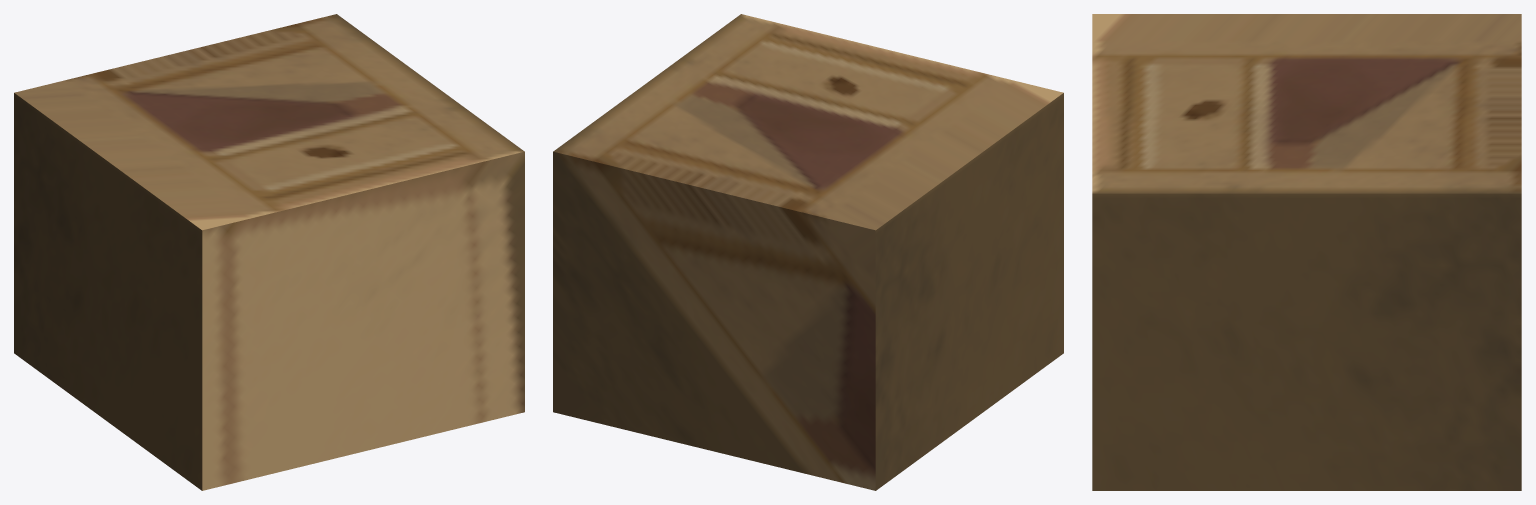
Rendered from pz_house_drawers_bedroom.obj.
The picture shows the model from 3 angles, left to right: view 1: azimuth 30°, elevation 25°; view 2: azimuth 150°, elevation 25°; view 3: azimuth 270°, elevation 25°; orthographic projection. The views are drawn at different scales.
Visible parts, largest first — view 1: pz_house_drawers_bedroom_|_1_corpo_gavetas; view 2: pz_house_drawers_bedroom_|_1_corpo_gavetas; view 3: pz_house_drawers_bedroom_|_1_corpo_gavetas.
Boxes of the visible parts, left/top/right/bottom form: pz_house_drawers_bedroom_|_1_corpo_gavetas: left=14, top=14, right=524, bottom=490; pz_house_drawers_bedroom_|_1_corpo_gavetas: left=553, top=14, right=1063, bottom=490; pz_house_drawers_bedroom_|_1_corpo_gavetas: left=1092, top=14, right=1521, bottom=490.
Size of the model in its own units: 0.862 by 0.6652 by 0.87.
Materials: 1 (1 with a texture image).
